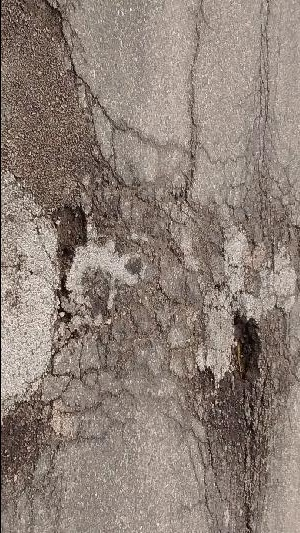pothole: (230, 311, 264, 385), (48, 202, 89, 259)
